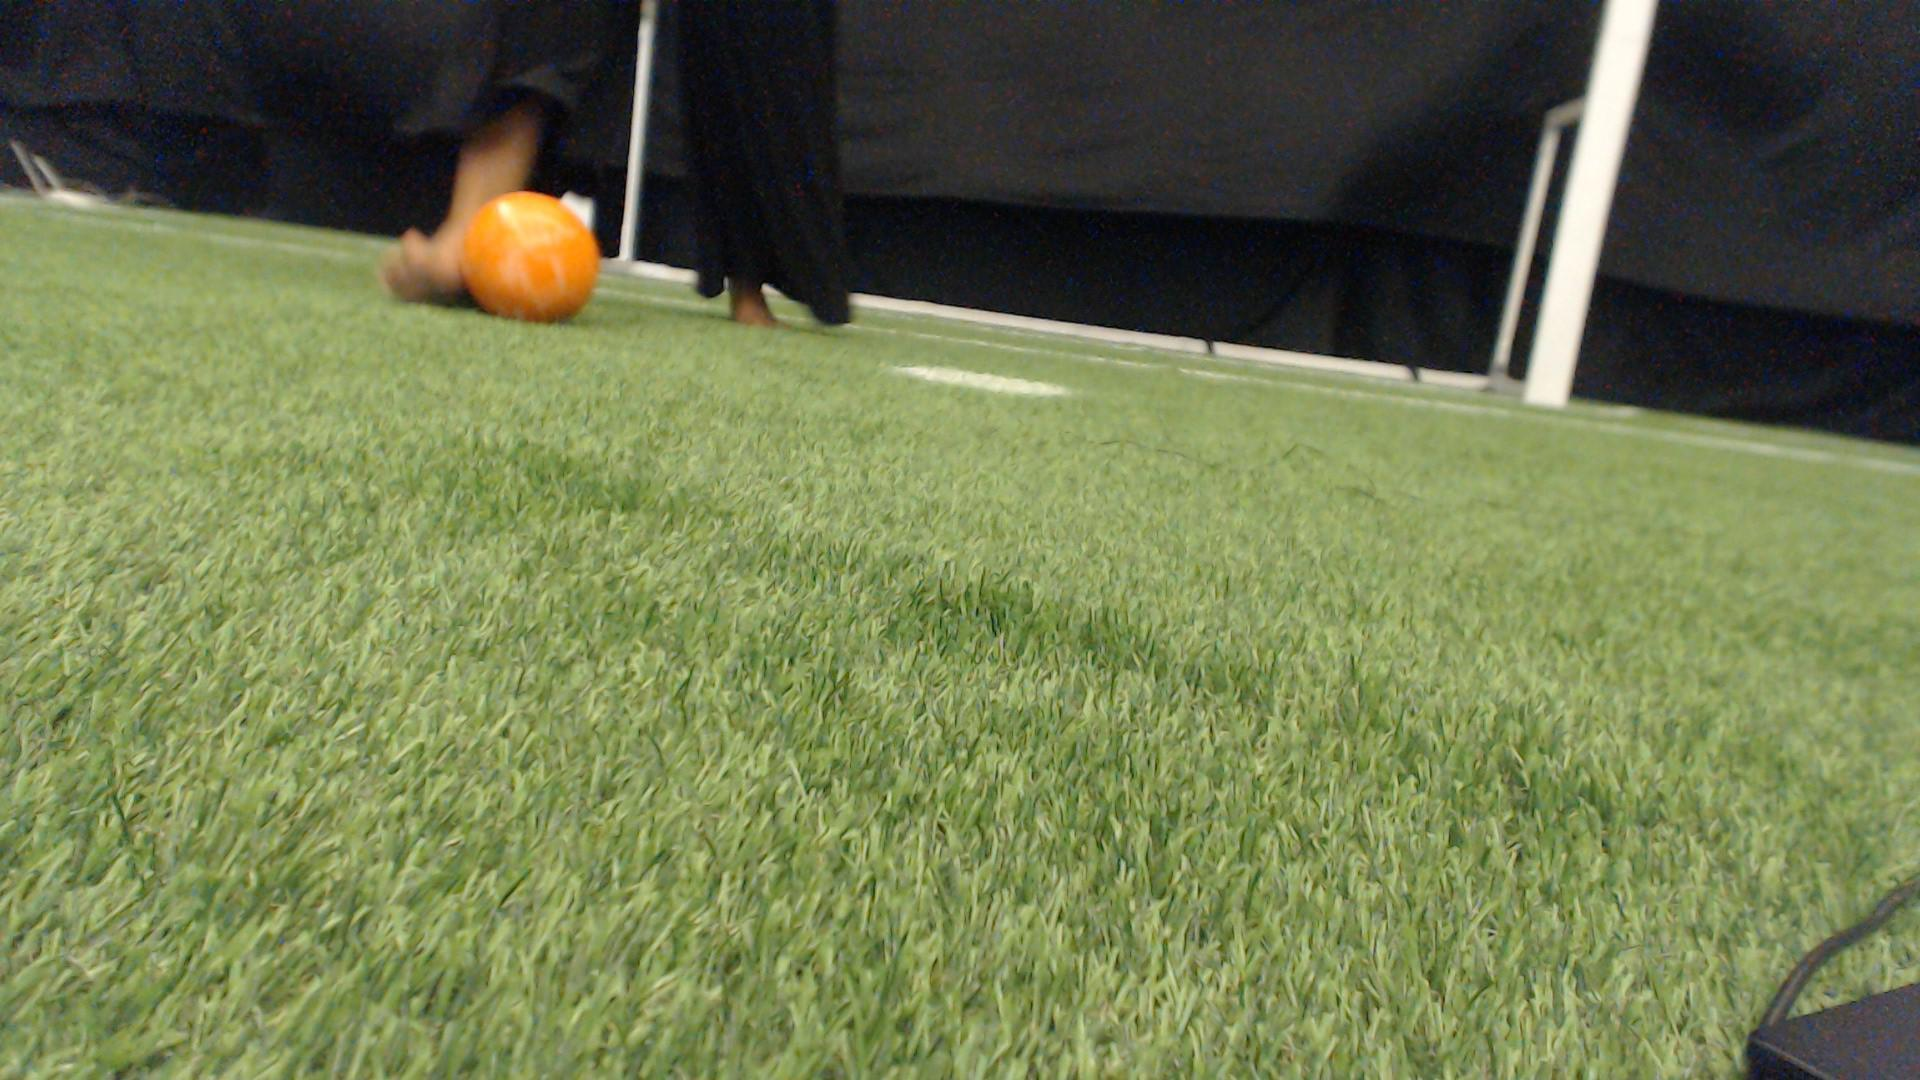bola: (438, 179, 612, 344)
